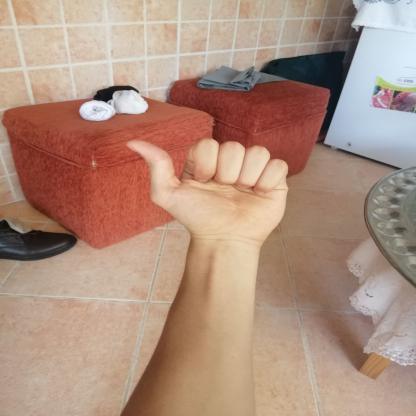DAD: (112, 125, 301, 251)
